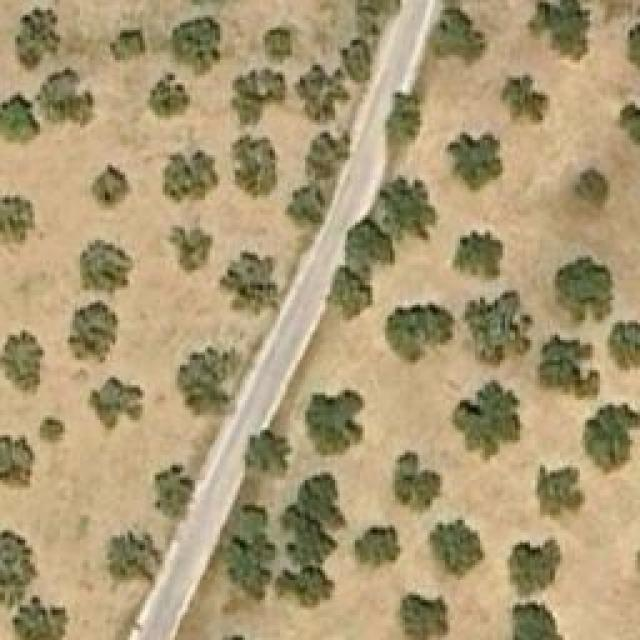Tree: (288, 130, 351, 225), (453, 378, 523, 463), (460, 290, 535, 368), (280, 475, 344, 565), (225, 505, 275, 600), (580, 403, 640, 476), (538, 335, 601, 398), (555, 257, 613, 325), (387, 302, 455, 360), (528, 0, 593, 60), (103, 530, 166, 590), (380, 178, 440, 241), (305, 393, 363, 458), (427, 520, 485, 583), (35, 65, 93, 128), (233, 68, 288, 128), (220, 250, 275, 308), (430, 7, 485, 65), (448, 132, 503, 190), (0, 528, 38, 611), (233, 135, 283, 198), (345, 220, 401, 276), (180, 348, 228, 413), (15, 5, 60, 73), (0, 330, 45, 398), (68, 303, 118, 363), (170, 15, 220, 75), (80, 240, 133, 295), (508, 540, 561, 595), (163, 153, 218, 203), (0, 77, 40, 145), (90, 378, 143, 428), (562, 168, 610, 223), (453, 230, 503, 280), (275, 565, 334, 607), (395, 450, 440, 505), (328, 270, 375, 321), (12, 597, 67, 640), (538, 465, 583, 515), (302, 62, 340, 120), (502, 78, 550, 123), (510, 602, 565, 640), (355, 528, 400, 573), (403, 595, 448, 640), (155, 465, 193, 518), (170, 227, 210, 275), (0, 435, 35, 488), (148, 73, 191, 116), (607, 317, 640, 372), (245, 430, 290, 470), (385, 93, 420, 143), (90, 165, 130, 208), (0, 195, 32, 242), (340, 37, 370, 85), (617, 100, 640, 150), (263, 28, 293, 63), (110, 30, 145, 60), (360, 0, 395, 30), (40, 418, 65, 443)
